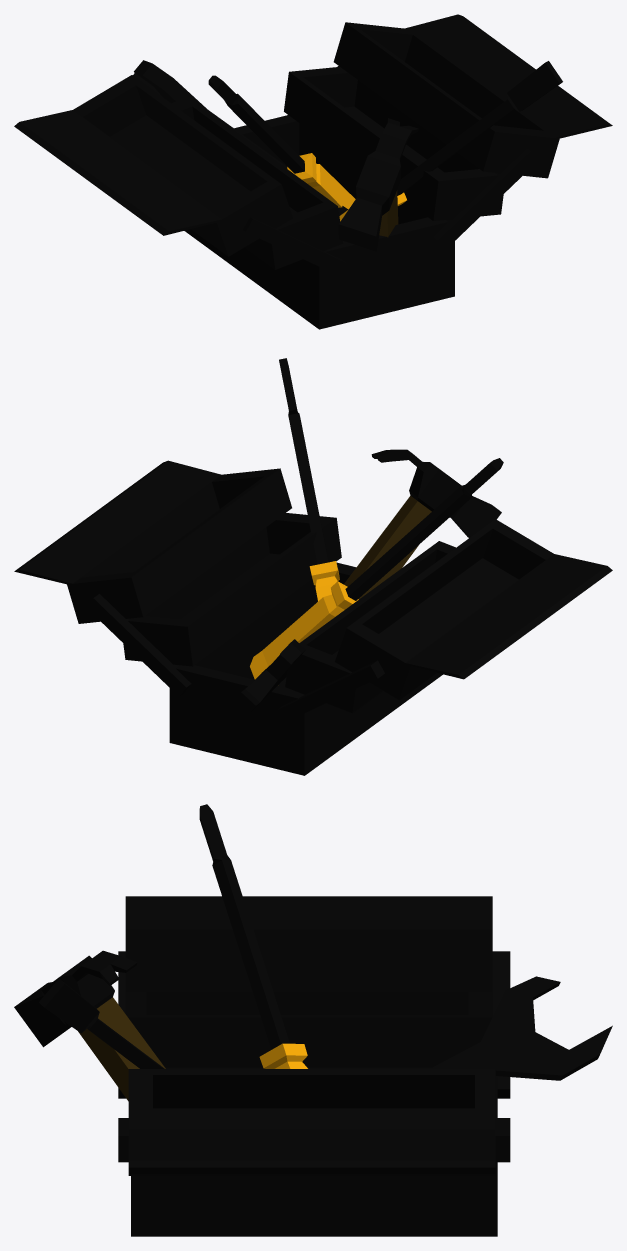
Rendered from CaixaFerramentas 1.fbx.
The picture shows the model from 3 angles, top to bottom: view 1: azimuth 30°, elevation 25°; view 2: azimuth 150°, elevation 25°; view 3: azimuth 270°, elevation 25°; orthographic projection. The views are drawn at different scales.
Visible parts, largest first — view 1: Cube.001, Cube, Cube.008, Cube.007, Cube.009; view 2: Cube.001, Cube.008, Cube, Cube.007, Cube.009; view 3: Cube.001, Cube.009, Cube, Cube.008, Cube.007.
Boxes of the visible parts, x1,y1,x2,y2 form: Cube.001: (14,14,612,329); Cube: (338,118,418,251); Cube.008: (208,75,355,209); Cube.007: (339,61,562,221); Cube.009: (133,60,348,215); Cube.001: (14,460,612,775); Cube.008: (250,458,503,679); Cube: (344,449,501,599); Cube.007: (279,358,339,601); Cube.009: (233,639,305,715); Cube.001: (118,896,510,1236); Cube.009: (430,976,612,1080); Cube: (14,950,165,1101); Cube.008: (199,804,307,1068); Cube.007: (39,978,164,1068).
Size of the model in its own units: 548 by 290 by 514.
2 materials, 2 textured.
